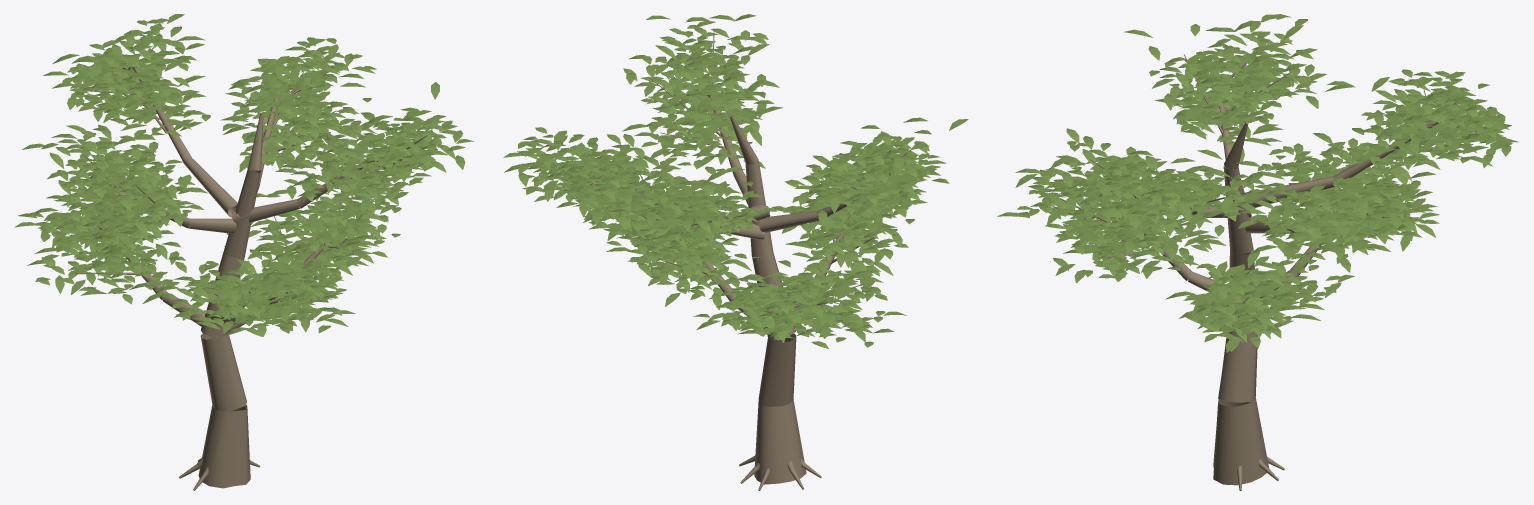
Rendered from canopy_broad_lod0.glb.
The picture shows the model from 3 angles, left to right: view 1: azimuth 30°, elevation 25°; view 2: azimuth 150°, elevation 25°; view 3: azimuth 270°, elevation 25°; orthographic projection. The views are drawn at different scales.
Parts seen in each view (by area): view 1: Leaves, Bark; view 2: Leaves, Bark; view 3: Leaves, Bark.
Boxes of the visible parts, x1=… form: Leaves: x1=14, y1=14, x2=474, y2=336; Bark: x1=54, y1=46, x2=427, y2=490; Leaves: x1=503, y1=14, x2=968, y2=348; Bark: x1=556, y1=31, x2=917, y2=490; Leaves: x1=997, y1=14, x2=1518, y2=352; Bark: x1=1049, y1=43, x2=1478, y2=490.
Bounding box in the file's own units: 10.38 × 10.23 × 11.87.
